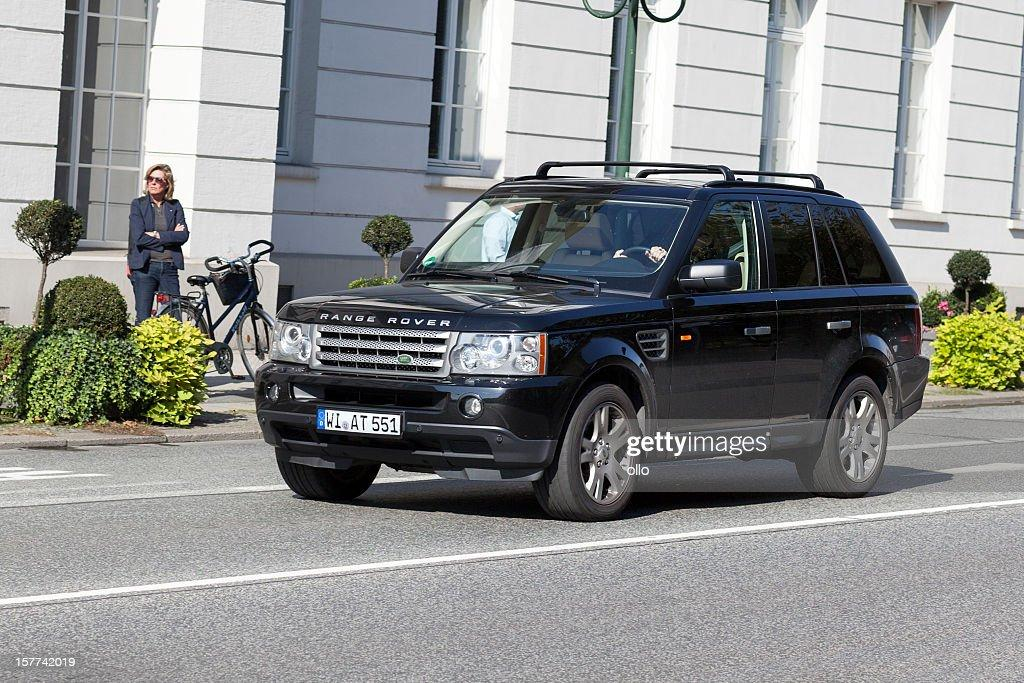range rover: (313, 304, 460, 334)
